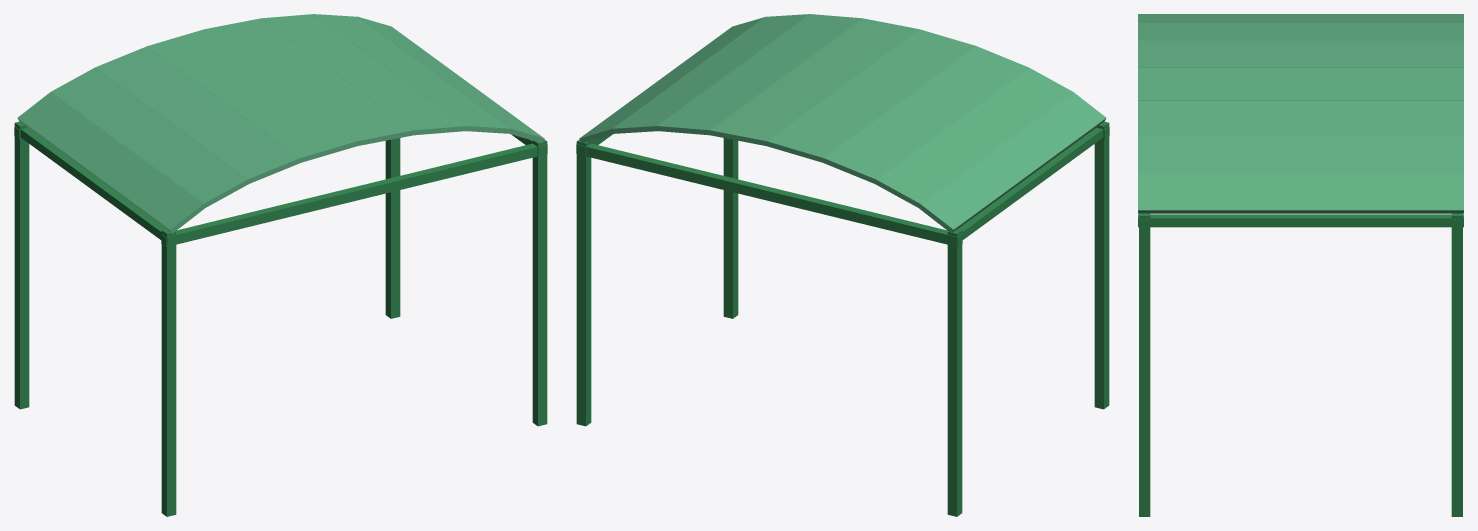
The model's file is env_lm3_petaling_canopy.fbx.
3 renders of one model, left to right at view 1: azimuth 30°, elevation 25°; view 2: azimuth 150°, elevation 25°; view 3: azimuth 270°, elevation 25°, orthographic. The views are drawn at different scales.
Parts seen in each view (by area): view 1: env_lm3_petaling_canopy_geo; view 2: env_lm3_petaling_canopy_geo; view 3: env_lm3_petaling_canopy_geo.
Part boxes in pixels (bbox=[...]): env_lm3_petaling_canopy_geo: bbox=[14, 14, 547, 516]; env_lm3_petaling_canopy_geo: bbox=[576, 14, 1109, 516]; env_lm3_petaling_canopy_geo: bbox=[1138, 14, 1463, 516].
Bounding box in the file's own units: 14.4 × 11.89 × 10.
